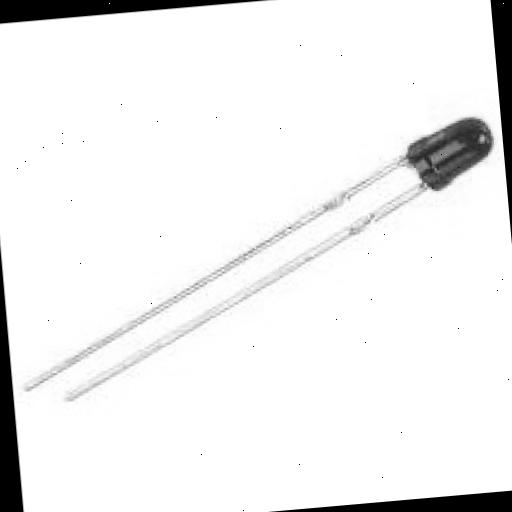LED: (0, 37, 512, 512)
